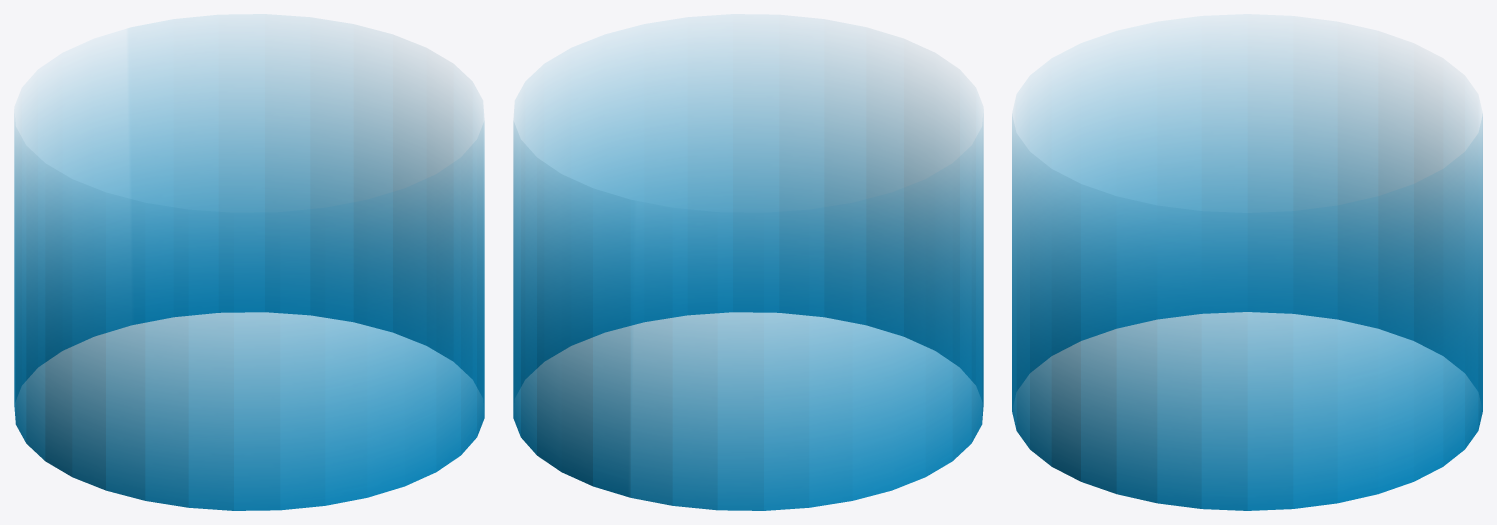
File: portal.glb
3 renders of one model, left to right at view 1: azimuth 30°, elevation 25°; view 2: azimuth 150°, elevation 25°; view 3: azimuth 270°, elevation 25°, orthographic.
Visible parts, largest first — view 1: Cylinder; view 2: Cylinder; view 3: Cylinder.
Boxes of the visible parts, x1,y1,x2,y2 form: Cylinder: (14,30,484,510); Cylinder: (513,35,983,510); Cylinder: (1012,39,1482,510).
Size of the model in its own units: 1.69 by 1.18 by 1.69.
Materials: 1 (1 with a texture image).
